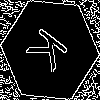K: (25, 25, 77, 80)
